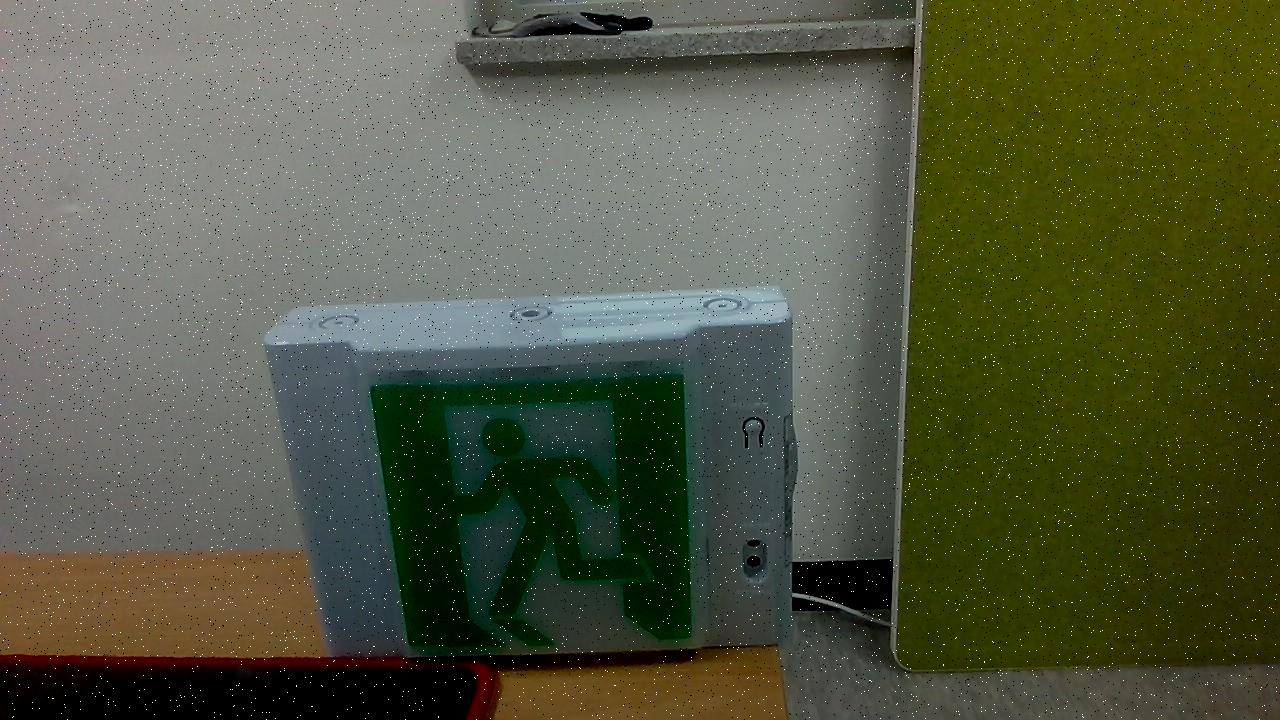emergency_exit: (263, 288, 796, 664), (368, 369, 695, 656)
